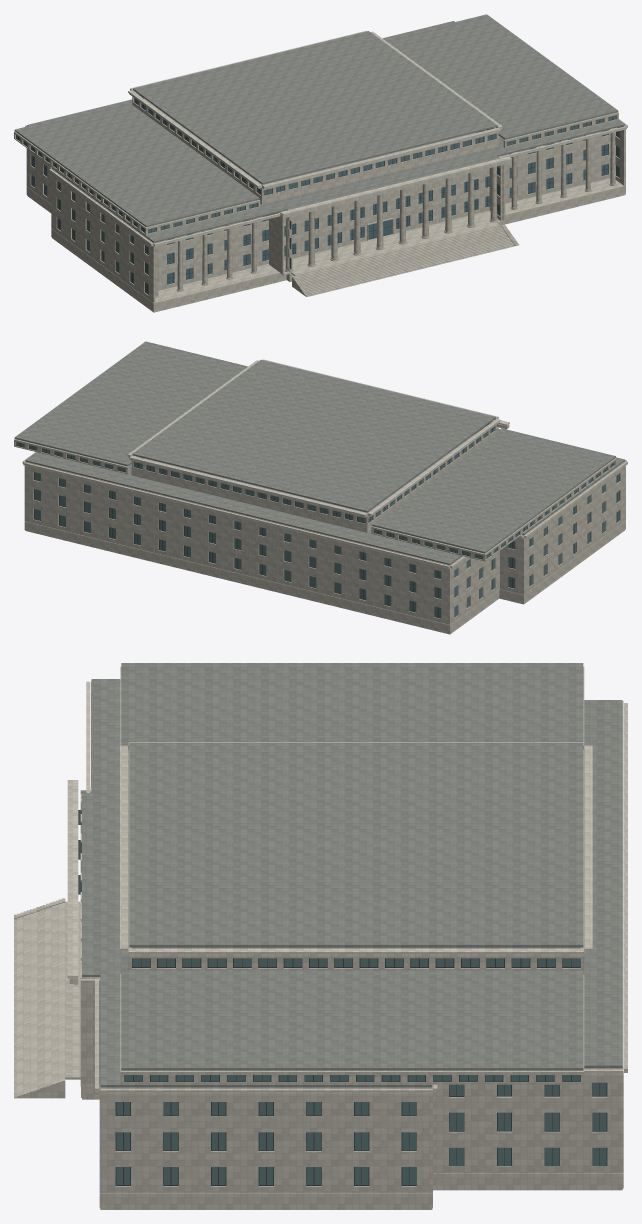
The picture shows the model from 3 angles, top to bottom: view 1: azimuth 30°, elevation 25°; view 2: azimuth 150°, elevation 25°; view 3: azimuth 270°, elevation 25°; orthographic projection. The views are drawn at different scales.
Parts seen in each view (by area): view 1: physical__roof, physical__stone, physical__trim, physical__stair-main, physical__sideglass, physical__glass, physical__frame, physical__threshold-main; view 2: physical__roof, physical__stone, physical__sideglass, physical__trim, physical__frame; view 3: physical__roof, physical__stone, physical__trim, physical__sideglass, physical__stair-main, physical__frame, physical__threshold-main.
Boxes of the visible parts, x1,y1,x2,y2 form: physical__roof: (14,14,625,242); physical__stone: (14,91,625,312); physical__trim: (25,30,627,297); physical__stair-main: (296,226,514,296); physical__sideglass: (16,95,619,294); physical__glass: (167,130,608,284); physical__frame: (16,102,616,294); physical__threshold-main: (291,222,500,275); physical__roof: (14,341,625,564); physical__stone: (14,420,625,634); physical__sideglass: (16,423,619,618); physical__trim: (22,359,627,568); physical__frame: (16,428,619,618); physical__roof: (82,663,622,1087); physical__stone: (14,666,623,1209); physical__trim: (67,679,627,1094); physical__sideglass: (78,810,606,1185); physical__stair-main: (14,903,65,1093); physical__frame: (78,810,607,1185); physical__threshold-main: (65,901,80,1079).
Size of the model in its own units: 122 by 22.53 by 76.79.
Materials: 6 (3 with a texture image).
